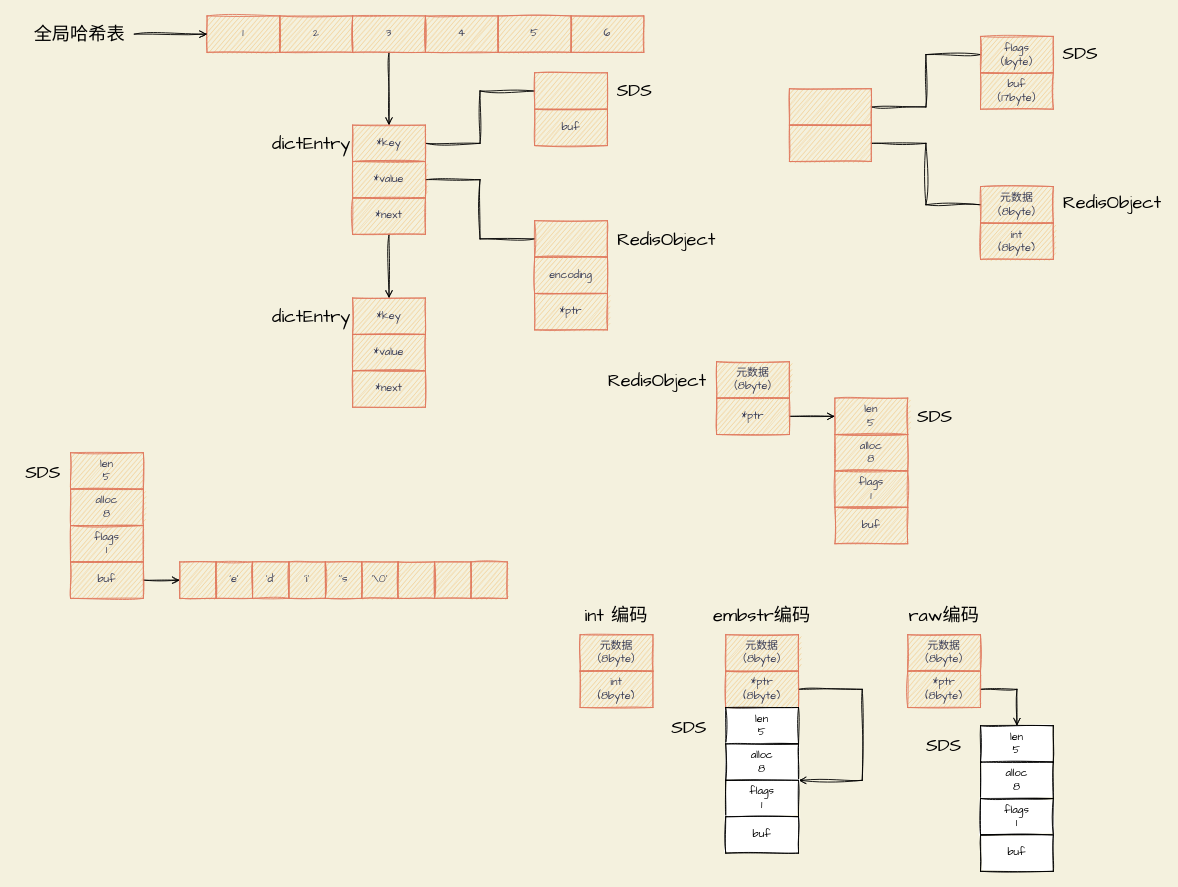
Image size: 1178x887. Some labels were removed from this diagram. The centre of each missing label's shape, as x and y in pixels:
"*key （ 1101000060 ）" goes at [830,106].
"*value （ 3302000080 ）" goes at [830,143].
"flags" goes at [570,90].
"type" goes at [570,238].
"‘R’" goes at [197,579].
